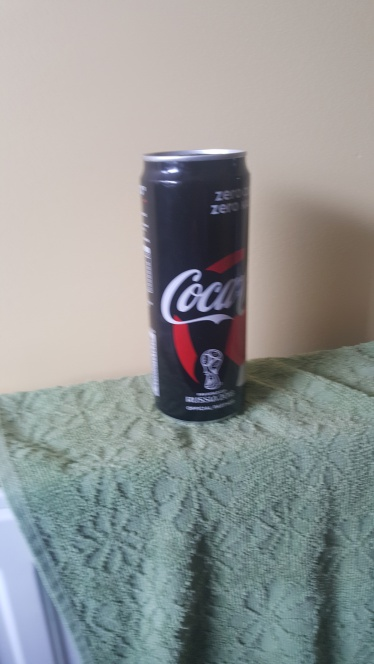colazero: (137, 137, 255, 433)
